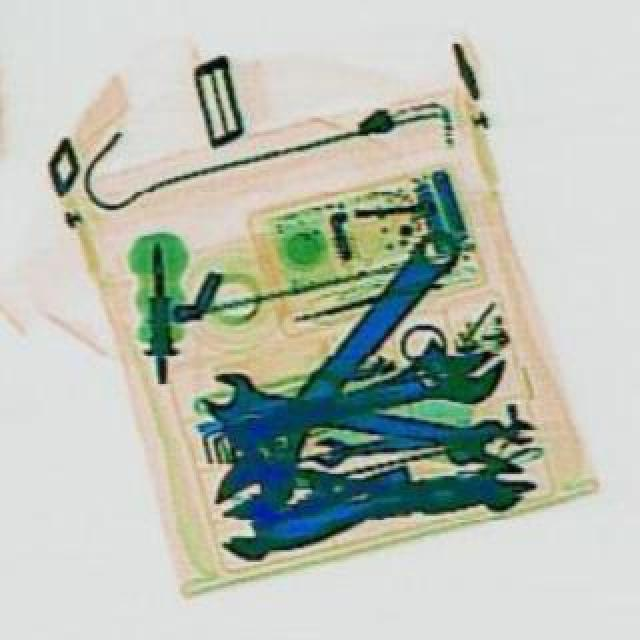scissors: (196, 212, 482, 536), (216, 334, 518, 458), (196, 364, 510, 466)
